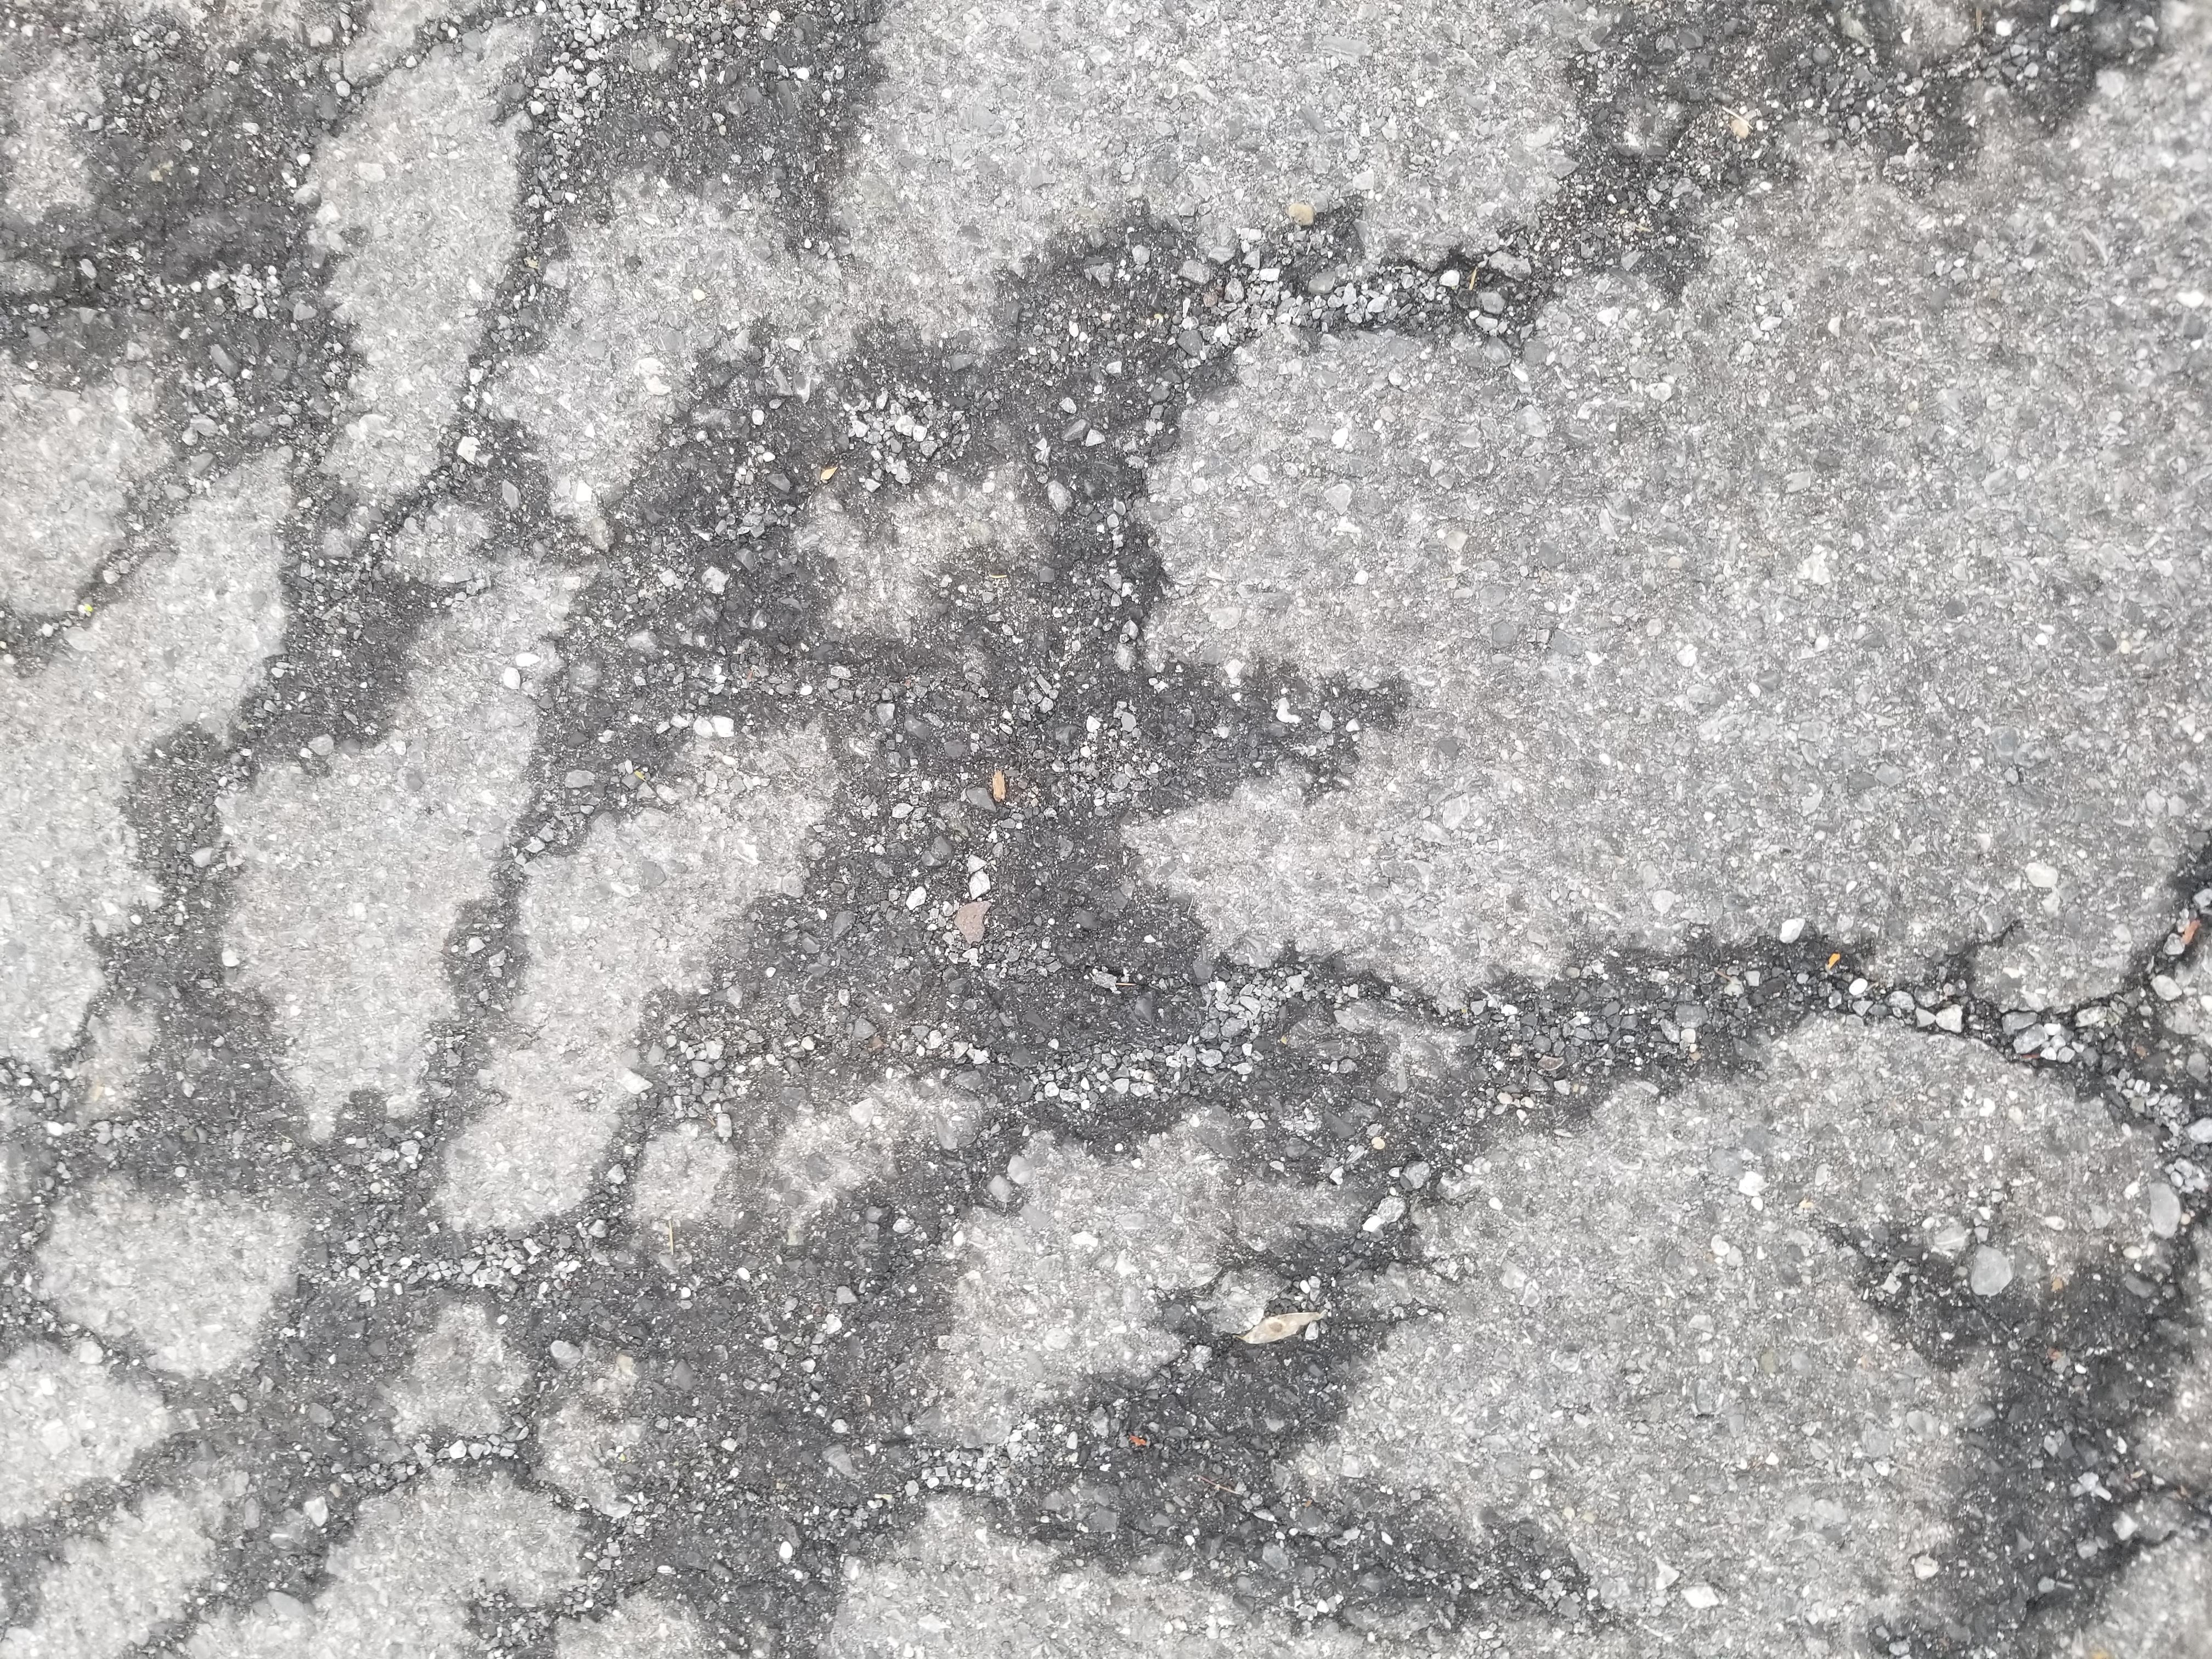alligator-crack: (19, 7, 2179, 1647)
